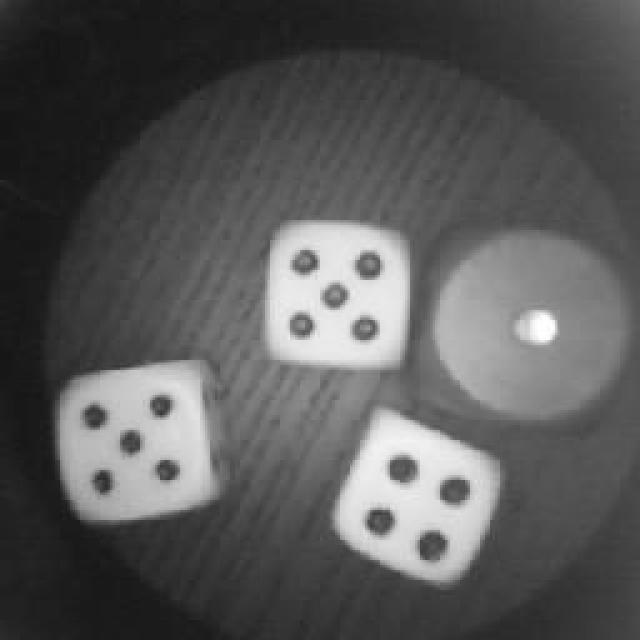dice_1: (425, 218, 635, 438)
dice_4: (332, 402, 502, 590)
dice_5: (45, 350, 230, 535), (252, 210, 420, 382)
